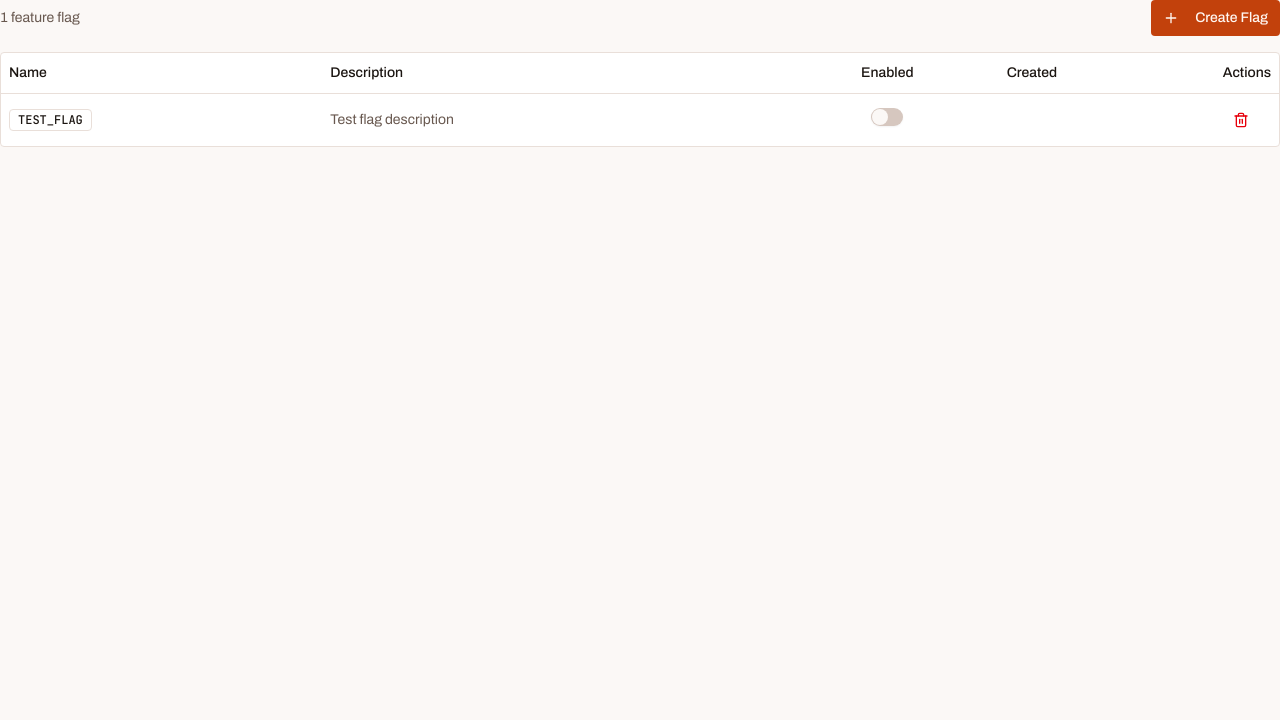
Test: components/admin/feature-flag-list › delete functionality › should close dialog when cancel clicked
Click the 3rd button at (1241, 120), box x1=1223 y1=102 x2=1259 y2=138
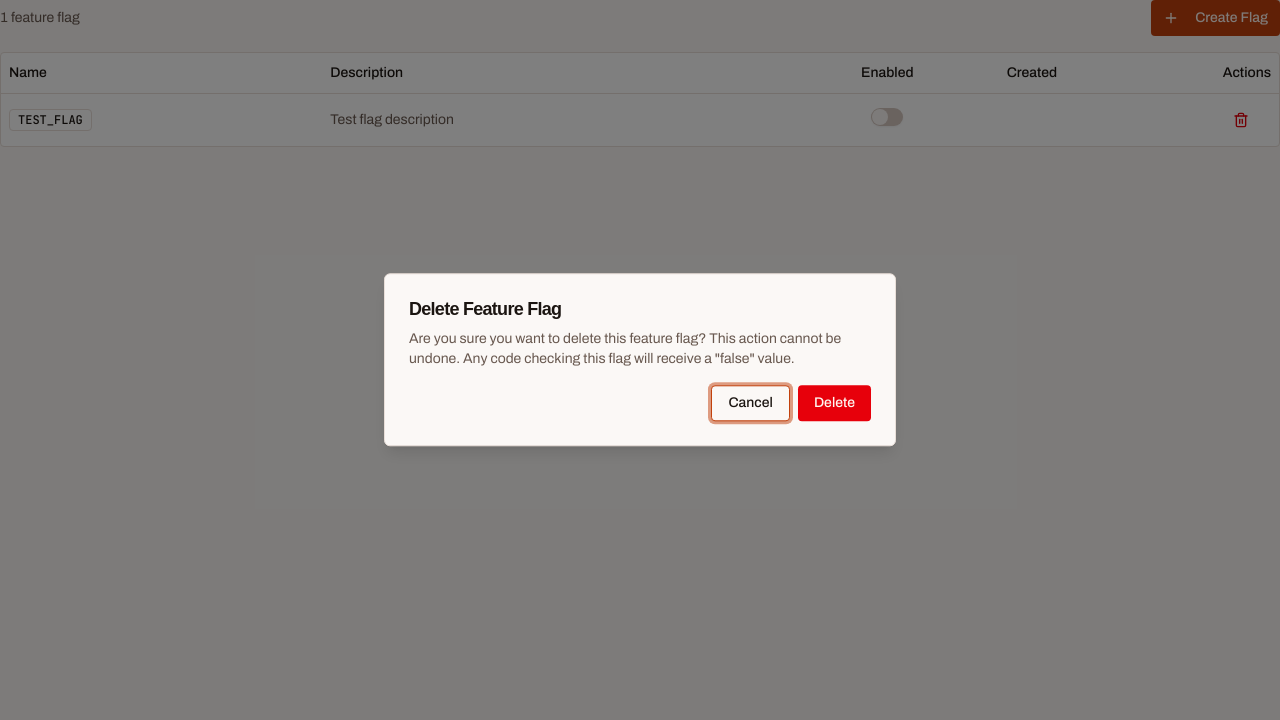
Expected: the dialog is shown, x1=384 y1=273 x2=896 y2=447
Note: Click cancel
Click the button "Cancel" at (751, 404), box x1=712 y1=386 x2=790 y2=422
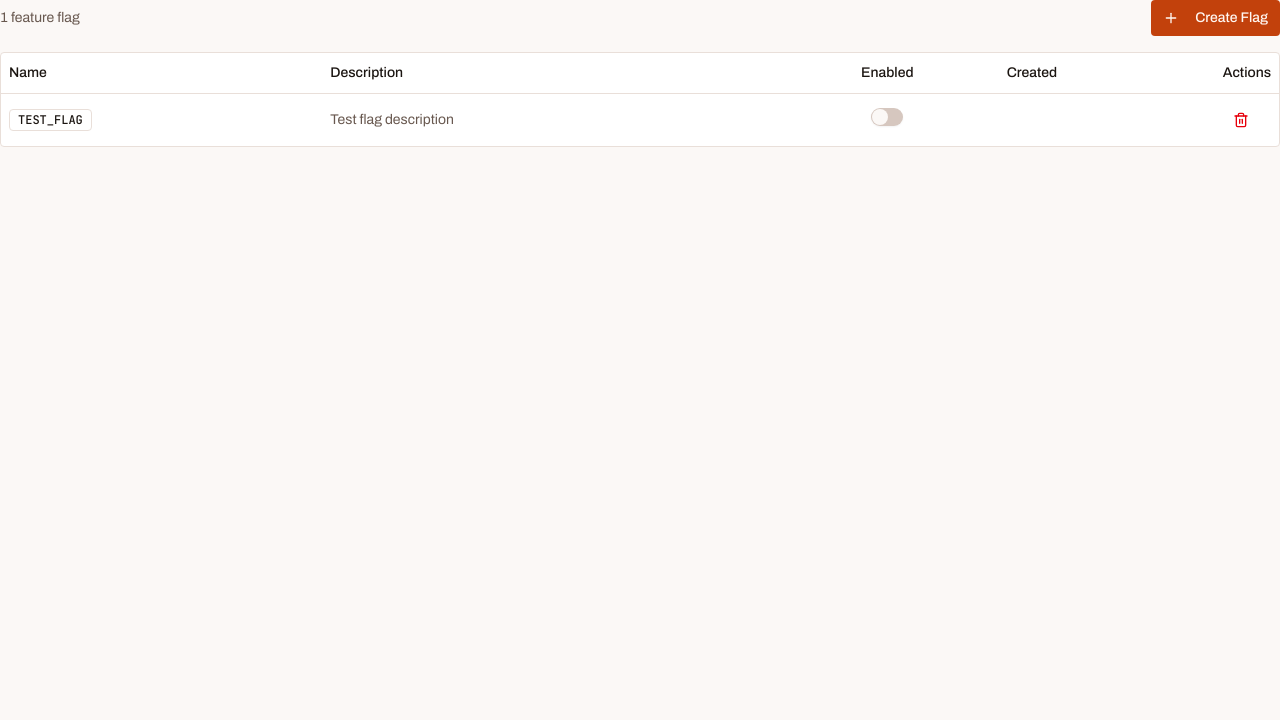
Expected: the dialog is gone
